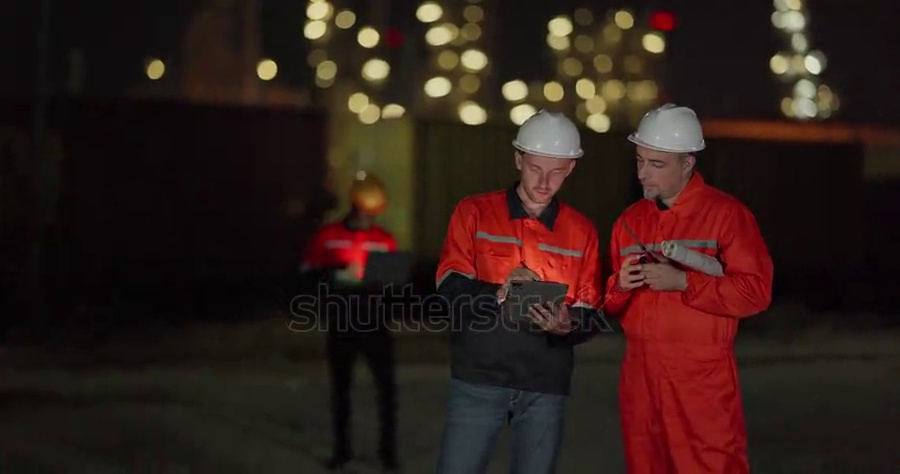helmet: (627, 100, 707, 153), (511, 108, 585, 160), (349, 171, 389, 215)
person: (601, 101, 776, 474), (431, 109, 606, 474), (296, 174, 406, 474)
